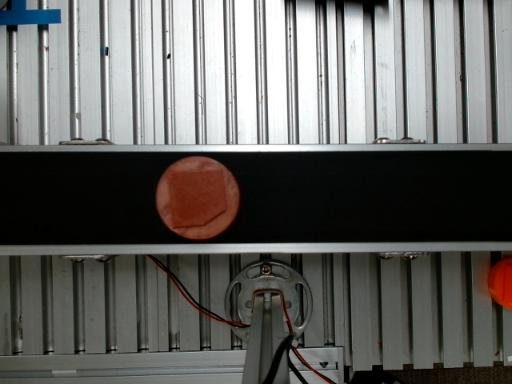Brown_Waper: (156, 156, 239, 239)
Not_Square: (166, 169, 227, 229)
